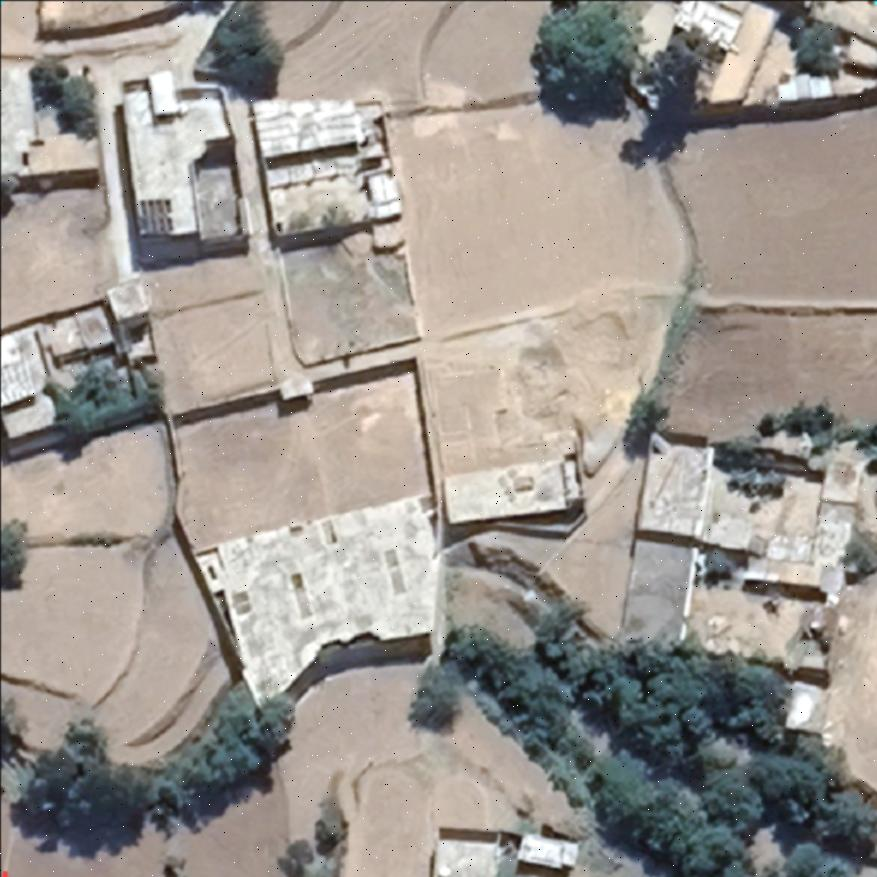Solarpanel: (132, 194, 176, 238)
